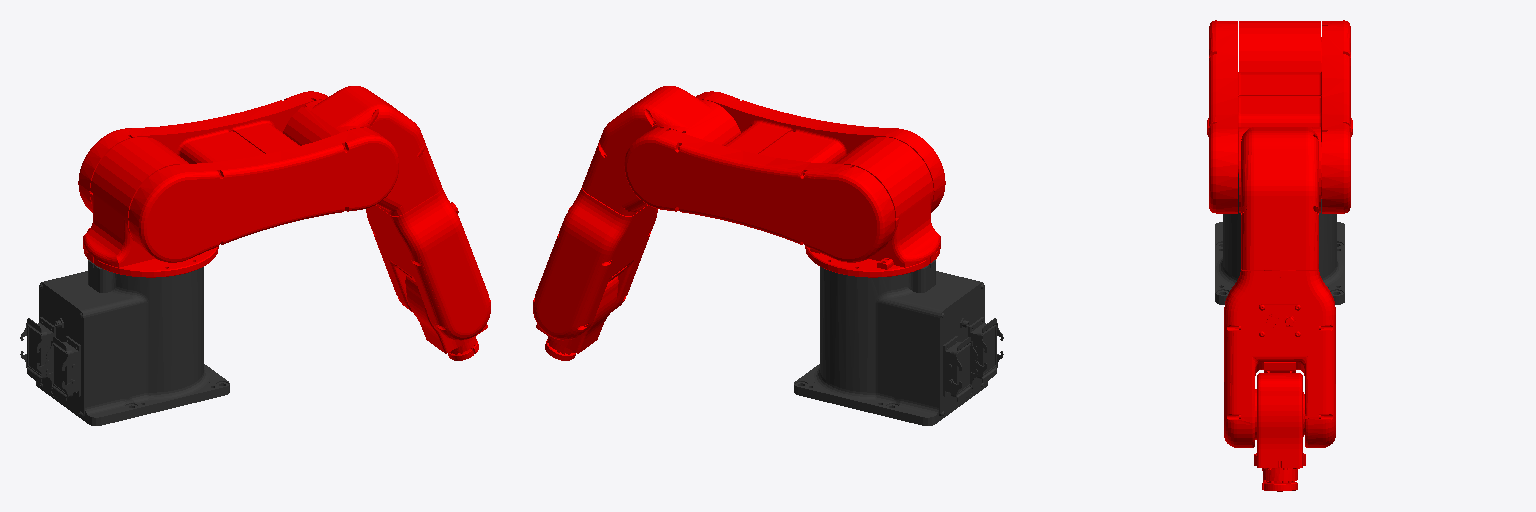
robot.urdf — hsr_jr605:
<robot
  name="hsr_jr605">
  <link
    name="base_link">
    <inertial>
      <origin
        xyz="-0.042985 3.4724E-08 0.11956"
        rpy="0 0 0" />
      <mass
        value="9.9325" />
      <inertia
        ixx="0.00017367"
        ixy="-2.9156E-10"
        ixz="-0.00022956"
        iyy="0.0013028"
        iyz="-5.523E-11"
        izz="0.0013433" />
    </inertial>
    <visual>
      <origin
        xyz="0 0 0"
        rpy="0 0 0" />
      <geometry>
        <mesh
          filename="package://hsr_description/meshes/jr605/base_link.STL" />
      </geometry>
      <material
        name="">
        <color
          rgba="0.25098 0.25098 0.25098 1" />
      </material>
    </visual>
    <collision>
      <origin
        xyz="0 0 0"
        rpy="0 0 0" />
      <geometry>
        <mesh
          filename="package://hsr_description/meshes/jr605/base_link.STL" />
      </geometry>
    </collision>
  </link>
  <link
    name="link1">
    <inertial>
      <origin
        xyz="2.2702E-05 0.00096249 -0.021354"
        rpy="0 0 0" />
      <mass
        value="3.7652" />
      <inertia
        ixx="6.6911E-06"
        ixy="-5.1617E-08"
        ixz="-3.4495E-06"
        iyy="1.904E-05"
        iyz="1.5461E-07"
        izz="1.5184E-05" />
    </inertial>
    <visual>
      <origin
        xyz="0 0 0"
        rpy="0 0 0" />
      <geometry>
        <mesh
          filename="package://hsr_description/meshes/jr605/link1.STL" />
      </geometry>
      <material
        name="">
        <color
          rgba="1 0 0 1" />
      </material>
    </visual>
    <collision>
      <origin
        xyz="0 0 0"
        rpy="0 0 0" />
      <geometry>
        <mesh
          filename="package://hsr_description/meshes/jr605/link1.STL" />
      </geometry>
    </collision>
  </link>
  <joint
    name="joint_1"
    type="revolute">
    <origin
      xyz="0 0 0.3535"
      rpy="0 0 0" />
    <parent
      link="base_link" />
    <child
      link="link1" />
    <axis
      xyz="0 0 1" />
    <limit
      lower="-3.4907"
      upper="3.4907"
      effort="0"
      velocity="0" />
  </joint>
  <link
    name="link2">
    <inertial>
      <origin
        xyz="0.16918 4.7044E-05 -0.00057704"
        rpy="0 0 0" />
      <mass
        value="8.1648" />
      <inertia
        ixx="6.0909E-06"
        ixy="6.8786E-10"
        ixz="-5.6336E-07"
        iyy="1.2447E-05"
        iyz="9.3589E-10"
        izz="9.9674E-06" />
    </inertial>
    <visual>
      <origin
        xyz="0 0 0"
        rpy="0 0 0" />
      <geometry>
        <mesh
          filename="package://hsr_description/meshes/jr605/link2.STL" />
      </geometry>
      <material
        name="">
        <color
          rgba="1 0 0 1" />
      </material>
    </visual>
    <collision>
      <origin
        xyz="0 0 0"
        rpy="0 0 0" />
      <geometry>
        <mesh
          filename="package://hsr_description/meshes/jr605/link2.STL" />
      </geometry>
    </collision>
  </link>
  <joint
    name="joint_2"
    type="revolute">
    <origin
      xyz="0 0 0"
      rpy="-1.5708 0 9.8233E-20" />
    <parent
      link="link1" />
    <child
      link="link2" />
    <axis
      xyz="0 0 1" />
    <limit
      lower="-3.1416"
      upper="0.0175"
      effort="0"
      velocity="0" />
  </joint>
  <link
    name="link3">
    <inertial>
      <origin
        xyz="-0.046472 -0.030742 0.00086805"
        rpy="0 0 0" />
      <mass
        value="4.2403" />
      <inertia
        ixx="3.1537E-06"
        ixy="-1.0326E-06"
        ixz="-1.7025E-08"
        iyy="4.5031E-06"
        iyz="-7.4992E-08"
        izz="4.6003E-06" />
    </inertial>
    <visual>
      <origin
        xyz="0 0 0"
        rpy="0 0 0" />
      <geometry>
        <mesh
          filename="package://hsr_description/meshes/jr605/link3.STL" />
      </geometry>
      <material
        name="">
        <color
          rgba="1 0 0 1" />
      </material>
    </visual>
    <collision>
      <origin
        xyz="0 0 0"
        rpy="0 0 0" />
      <geometry>
        <mesh
          filename="package://hsr_description/meshes/jr605/link3.STL" />
      </geometry>
    </collision>
  </link>
  <joint
    name="joint_3"
    type="revolute">
    <origin
      xyz="0.36 0 0"
      rpy="-1.2635E-17 5.072E-19 4.9915E-36" />
    <parent
      link="link2" />
    <child
      link="link3" />
    <axis
      xyz="0 0 1" />
    <limit
      lower="1.3963"
      upper="4.1888"
      effort="0"
      velocity="0" />
  </joint>
  <link
    name="link4">
    <inertial>
      <origin
        xyz="-0.00046555 7.4059E-06 0.26725"
        rpy="0 0 0" />
      <mass
        value="3.8061" />
      <inertia
        ixx="2.6826E-05"
        ixy="-1.7466E-07"
        ixz="-3.228E-06"
        iyy="2.4576E-05"
        iyz="-1.1757E-06"
        izz="1.6157E-05" />
    </inertial>
    <visual>
      <origin
        xyz="0 0 0"
        rpy="0 0 0" />
      <geometry>
        <mesh
          filename="package://hsr_description/meshes/jr605/link4.STL" />
      </geometry>
      <material
        name="">
        <color
          rgba="1 0 0 1" />
      </material>
    </visual>
    <collision>
      <origin
        xyz="0 0 0"
        rpy="0 0 0" />
      <geometry>
        <mesh
          filename="package://hsr_description/meshes/jr605/link4.STL" />
      </geometry>
    </collision>
  </link>
  <joint
    name="joint_4"
    type="revolute">
    <origin
      xyz="-0.09 0 0"
      rpy="1.5708 0 0" />
    <parent
      link="link3" />
    <child
      link="link4" />
    <axis
      xyz="0 0 -1" />
    <limit
      lower="-3.1416"
      upper="3.1416"
      effort="0"
      velocity="0" />
  </joint>
  <link
    name="link5">
    <inertial>
      <origin
        xyz="1.2455E-05 -0.014809 -0.00026987"
        rpy="0 0 0" />
      <mass
        value="1.0252" />
      <inertia
        ixx="0"
        ixy="0"
        ixz="0"
        iyy="0"
        iyz="0"
        izz="0" />
    </inertial>
    <visual>
      <origin
        xyz="0 0 0"
        rpy="0 0 0" />
      <geometry>
        <mesh
          filename="package://hsr_description/meshes/jr605/link5.STL" />
      </geometry>
      <material
        name="">
        <color
          rgba="1 0 0 1" />
      </material>
    </visual>
    <collision>
      <origin
        xyz="0 0 0"
        rpy="0 0 0" />
      <geometry>
        <mesh
          filename="package://hsr_description/meshes/jr605/link5.STL" />
      </geometry>
    </collision>
  </link>
  <joint
    name="joint_5"
    type="revolute">
    <origin
      xyz="0 0 0.3765"
      rpy="-1.5708 -1.3878E-17 -4.4702E-16" />
    <parent
      link="link4" />
    <child
      link="link5" />
    <axis
      xyz="0 0 1" />
    <limit
      lower="-2.0071"
      upper="2.0071"
      effort="0"
      velocity="0" />
  </joint>
  <link
    name="link6">
    <inertial>
      <origin
        xyz="2.9332E-05 0.00012753 -0.0062778"
        rpy="0 0 0" />
      <mass
        value="0.025338" />
      <inertia
        ixx="0"
        ixy="0"
        ixz="0"
        iyy="0"
        iyz="0"
        izz="0" />
    </inertial>
    <visual>
      <origin
        xyz="0 0 0"
        rpy="0 0 0" />
      <geometry>
        <mesh
          filename="package://hsr_description/meshes/jr605/link6.STL" />
      </geometry>
      <material
        name="">
        <color
          rgba="1 0 0 1" />
      </material>
    </visual>
    <collision>
      <origin
        xyz="0 0 0"
        rpy="0 0 0" />
      <geometry>
        <mesh
          filename="package://hsr_description/meshes/jr605/link6.STL" />
      </geometry>
    </collision>
  </link>
  <joint
    name="joint_6"
    type="revolute">
    <origin
      xyz="0 -0.119 0"
      rpy="1.5708 0.042291 1.1639E-17" />
    <parent
      link="link5" />
    <child
      link="link6" />
    <axis
      xyz="0 0 -1" />
    <limit
      lower="-6.2832"
      upper="6.2832"
      effort="0"
      velocity="0" />
  </joint>
</robot>

--- Render facts (derived) ---
The picture shows the robot from 3 angles, left to right: view 1: azimuth 30°, elevation 25°; view 2: azimuth 150°, elevation 25°; view 3: azimuth 270°, elevation 25°; orthographic projection.
Model hsr_jr605 with 7 links and 6 joints (6 revolute), rooted at base_link, posed all joints at 0 but 1 set to mid-range because 0 is outside their limits (joint_3 = 2.79).
Visible links, largest first — view 1: link2, base_link, link4, link1, link3, link5; view 2: link2, base_link, link4, link1, link3, link5; view 3: link2, link4, link3, link5, link1, base_link.
Link boxes in pixels (x1,y1,x2,y2): link2: (78, 91, 398, 262); base_link: (20, 260, 229, 425); link4: (366, 188, 490, 340); link1: (83, 137, 218, 277); link3: (283, 86, 441, 215); link5: (405, 276, 487, 354); link2: (624, 91, 945, 262); base_link: (794, 260, 1003, 425); link4: (533, 188, 657, 340); link1: (805, 137, 940, 277); link3: (582, 86, 740, 215); link5: (536, 276, 618, 354); link2: (1209, 20, 1350, 213); link4: (1224, 269, 1335, 447); link3: (1239, 127, 1321, 269); link5: (1254, 373, 1305, 482); link1: (1207, 21, 1352, 136); base_link: (1215, 174, 1344, 304).
Size in the robot's own frame: 0.8579 by 0.2299 by 0.5333 metres.
7 mesh visuals loaded from 7 distinct referenced files (7 binary STL).